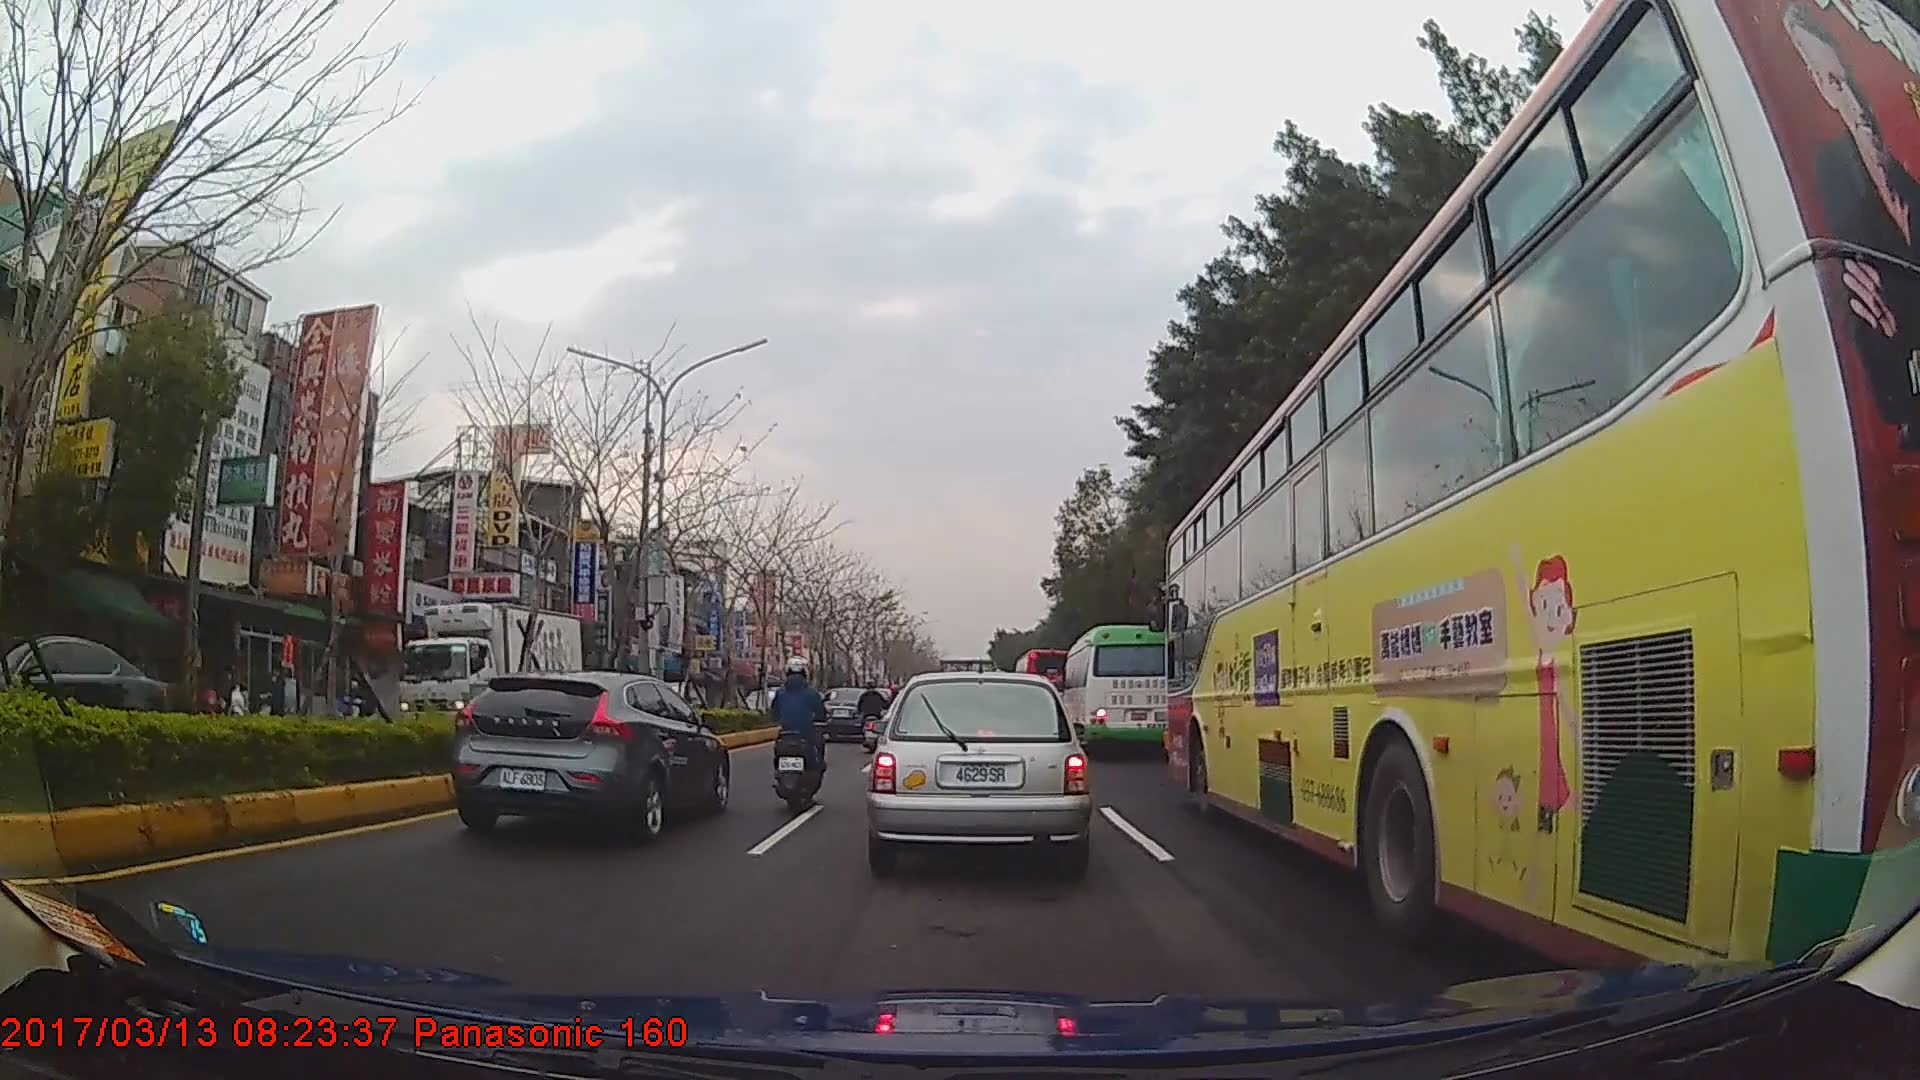rider: (769, 657, 833, 801), (859, 681, 890, 750), (335, 675, 375, 724), (259, 668, 287, 719)
vehicle: (1164, 0, 1920, 1026), (450, 668, 731, 844), (867, 674, 1090, 878), (395, 603, 584, 751), (0, 634, 166, 771), (1059, 625, 1175, 758), (1013, 645, 1077, 717), (816, 685, 876, 742)
